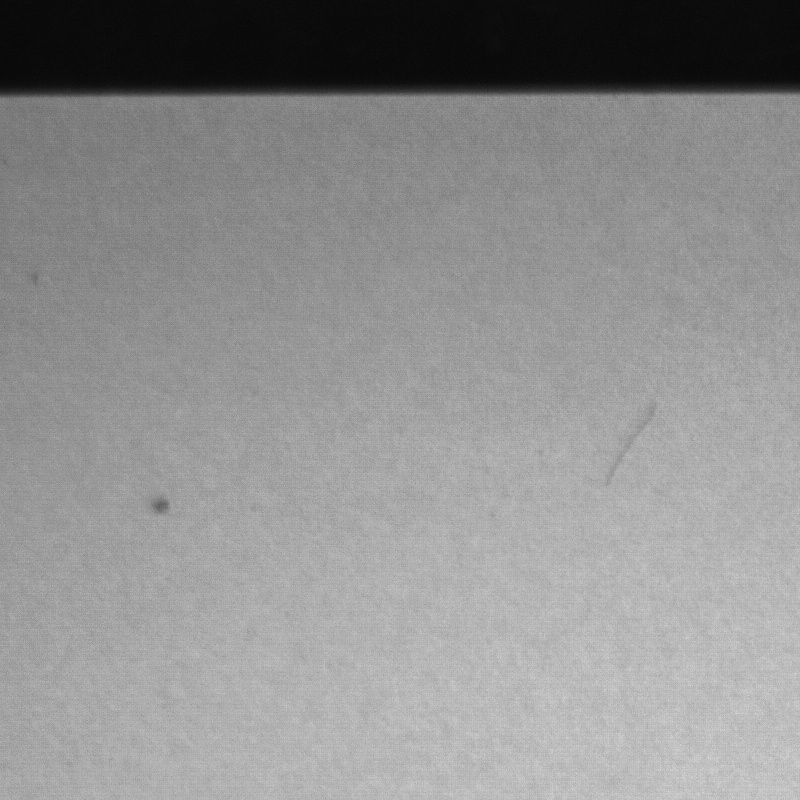defect: (601, 408, 655, 490), (143, 492, 177, 517), (26, 273, 45, 291)
